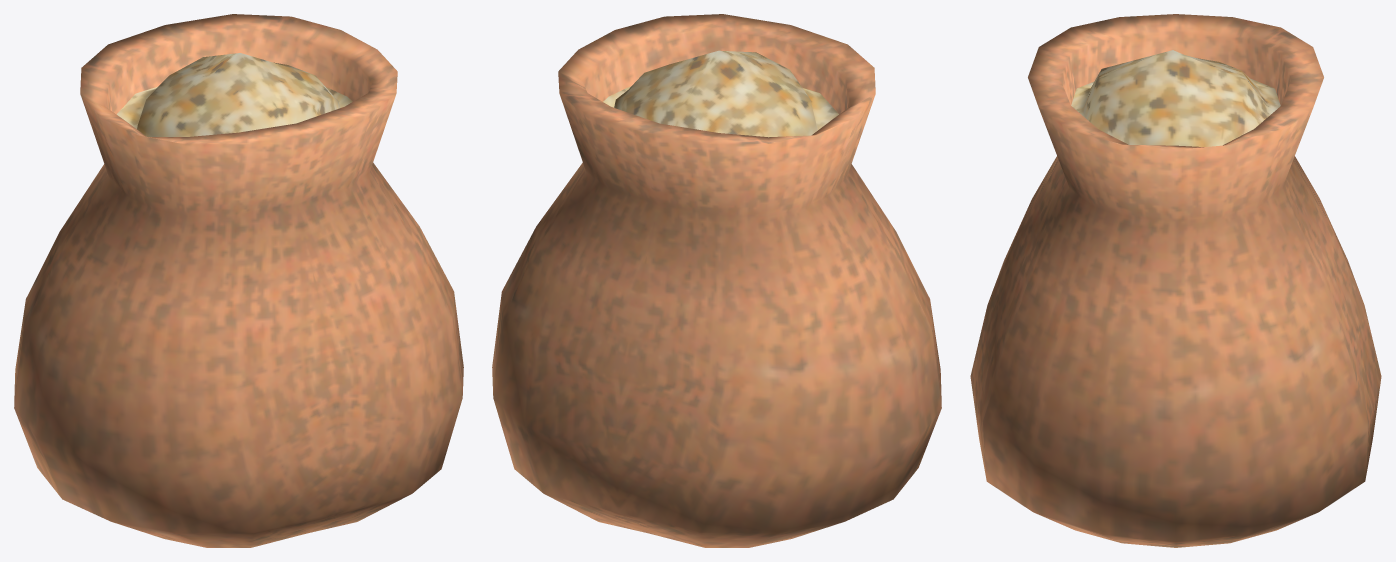
Rendered from Seeds.fbx.
3 renders of one model, left to right at view 1: azimuth 30°, elevation 25°; view 2: azimuth 150°, elevation 25°; view 3: azimuth 270°, elevation 25°, orthographic.
Parts seen in each view (by area): view 1: Seeds; view 2: Seeds; view 3: Seeds.
Part boxes in pixels (x1=…): Seeds: x1=14, y1=14, x2=463, y2=547; Seeds: x1=492, y1=14, x2=941, y2=547; Seeds: x1=970, y1=14, x2=1381, y2=547.
Bounding box in the file's own units: 49.51 × 52.65 × 43.6.
Materials: 1 (1 with a texture image).
